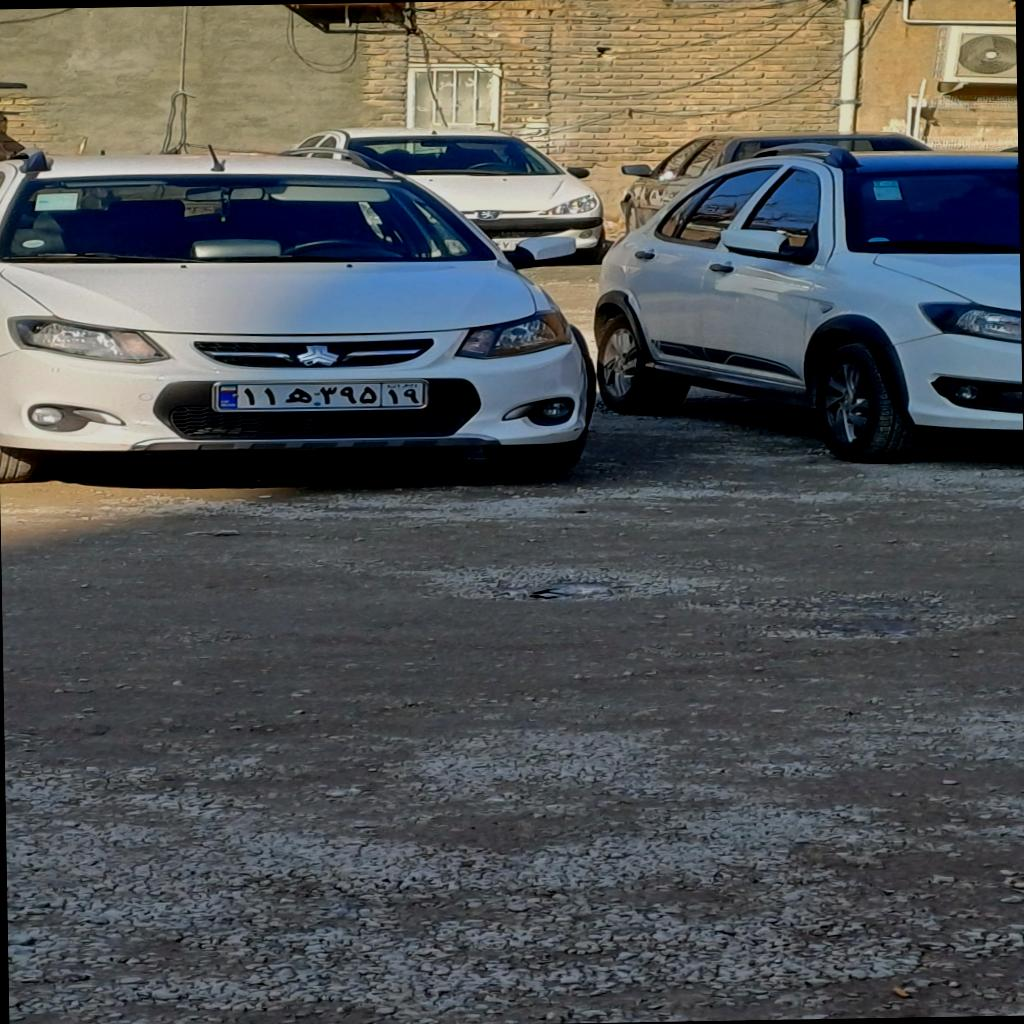Plates: (218, 380, 424, 408)
